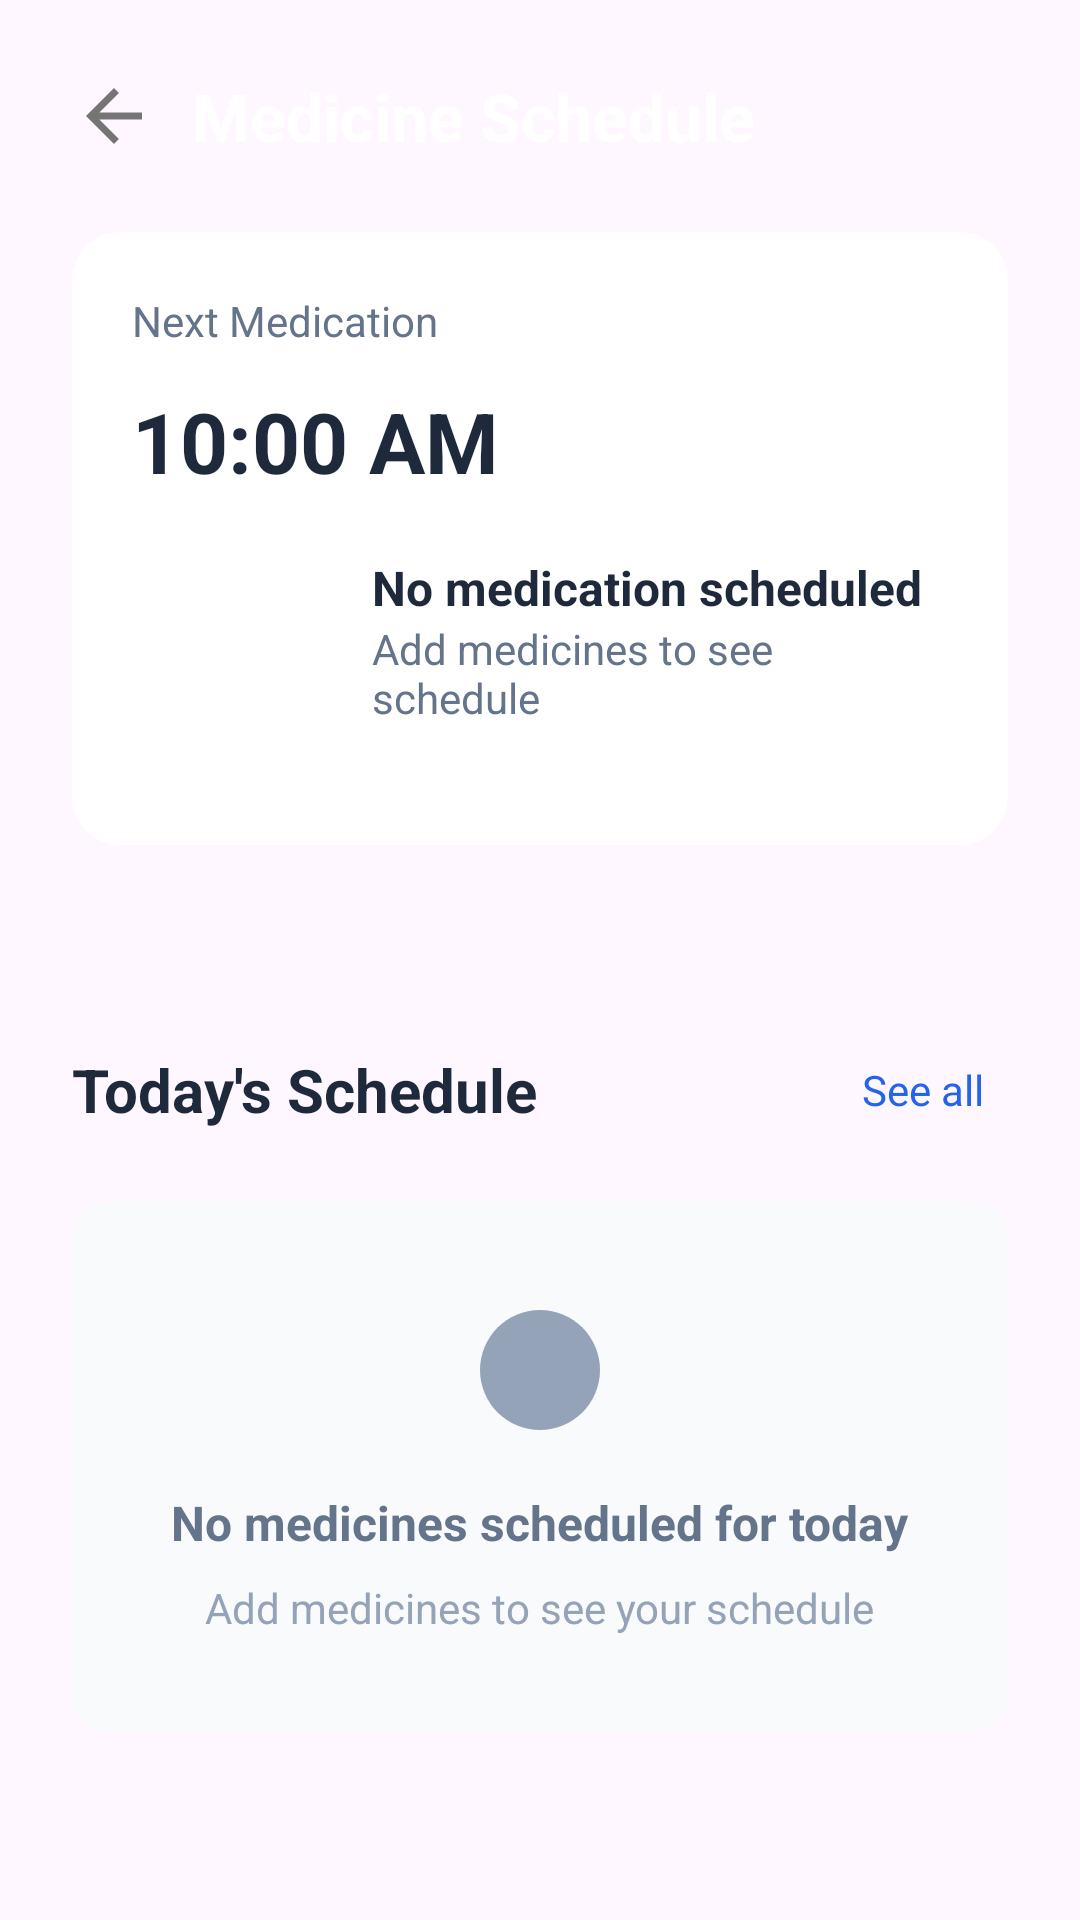

Screen size 1080 × 1920. Icon name, then its center in pixels as point (x, y):
Back: point (114, 116)
